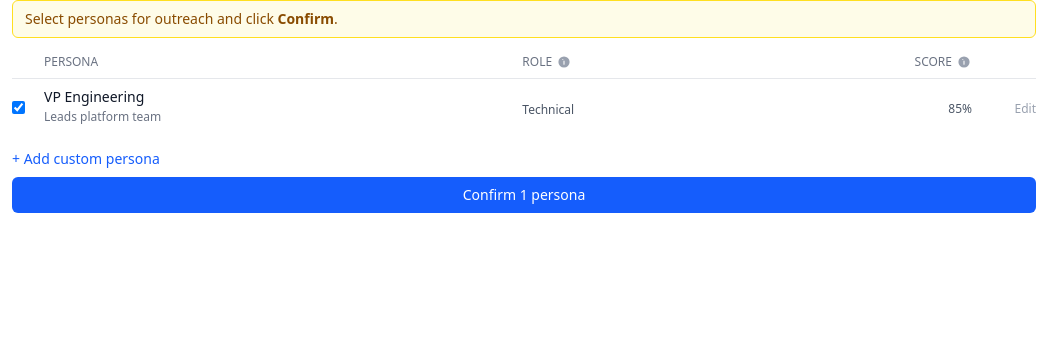
Scenario: PersonaTable › HITL mode › adds custom persona to the list when confirmed
Click the button "+ Add custom persona" at (86,159), box [12, 149, 160, 169]
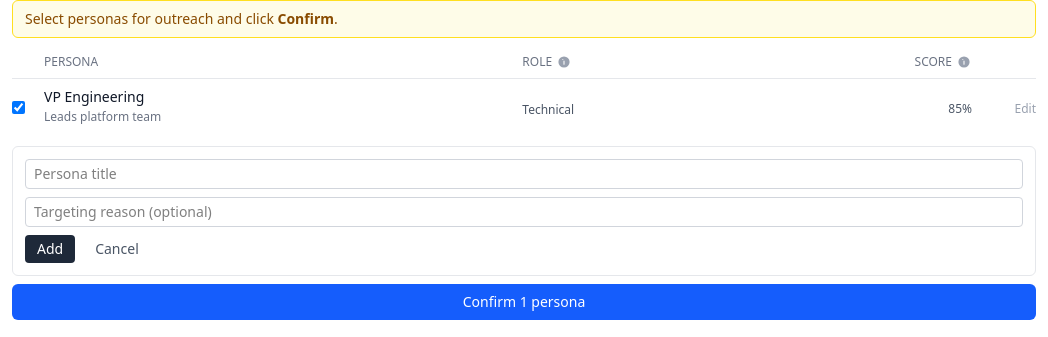
Type "Head of AI" into the field named "New persona title" at (524,174), box [25, 159, 1023, 189]
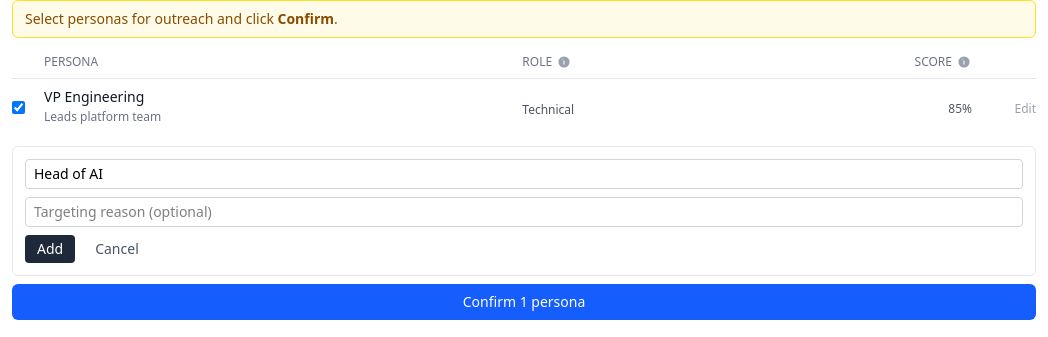
Click the button "Add" at (50,249), box [25, 235, 75, 263]
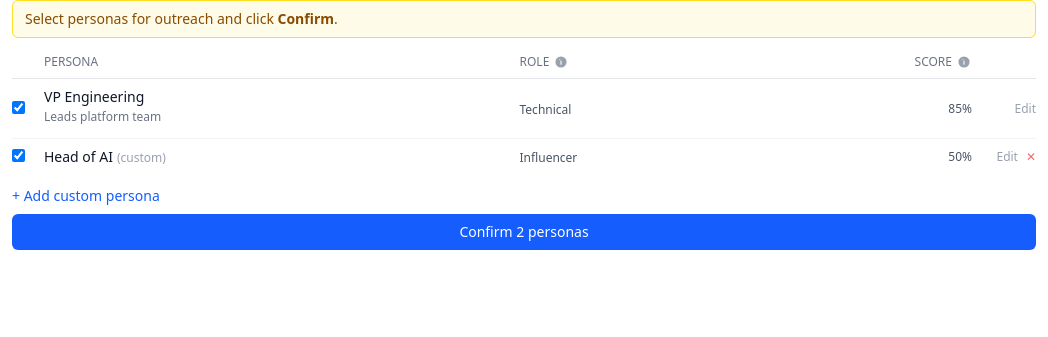
Expected: the text "Head of AI" is shown, [44, 147, 113, 166]
